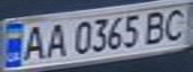0: (69, 17, 93, 55)
3: (90, 16, 112, 53)
5: (121, 11, 148, 48)
6: (106, 15, 127, 52)
A: (18, 23, 48, 62), (42, 20, 69, 60)
B: (139, 8, 172, 45)
C: (160, 6, 193, 42)
